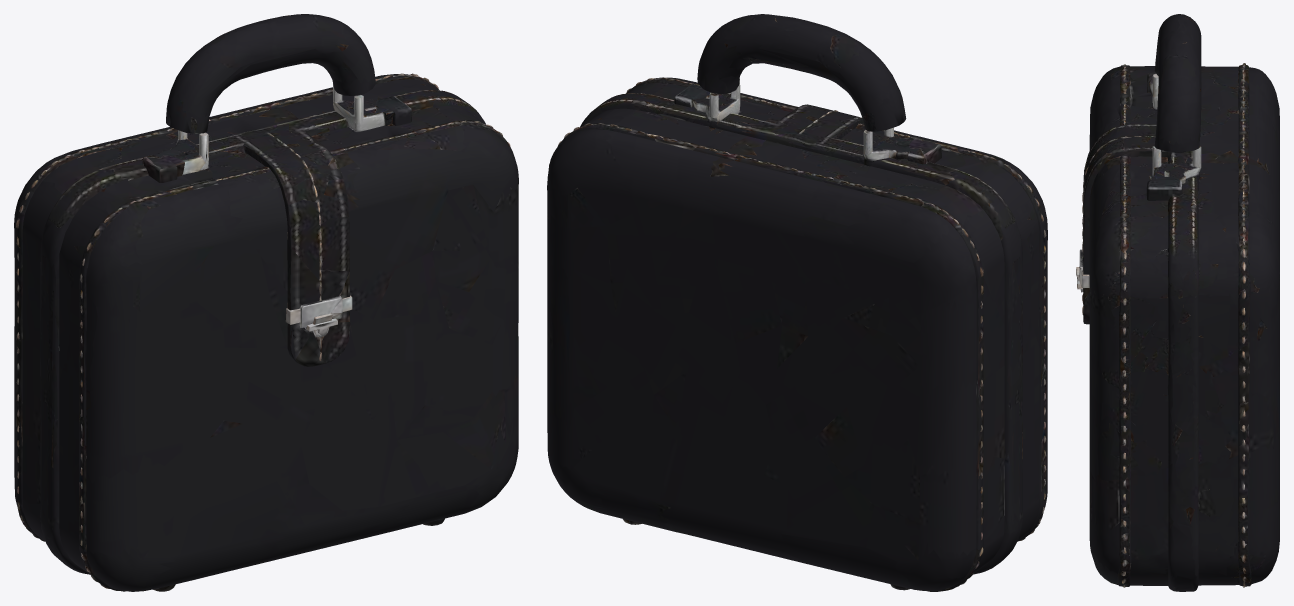
The model's file is t4-obsidian-v2.glb.
The picture shows the model from 3 angles, left to right: view 1: azimuth 30°, elevation 25°; view 2: azimuth 150°, elevation 25°; view 3: azimuth 270°, elevation 25°; orthographic projection. The views are drawn at different scales.
Visible parts, largest first — view 1: mesh_node; view 2: mesh_node; view 3: mesh_node.
Part boxes in pixels (<box>): mesh_node: <box>14,14,518,591</box>; mesh_node: <box>547,14,1047,591</box>; mesh_node: <box>1076,14,1279,591</box>.
Size of the model in its own units: 1.72 by 1.9 by 0.7302.
1 material, 1 textured.
